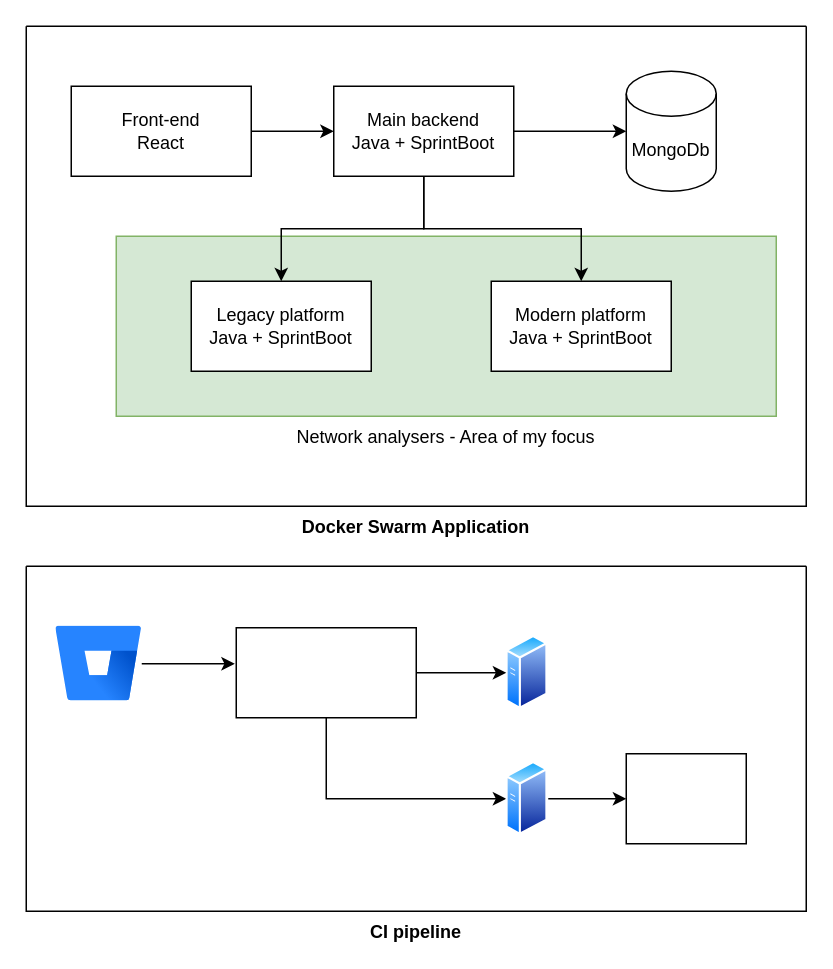
This 833x969 diagram has some shape labels left out. Here are the shapes that lost their labels. From the top down, the centre of each, then its label:
(325,672): Jenkins Build + Deploy
(527,672): On-premise Server for developers
(527,798): On-premise Server for QA
(685,798): QA
